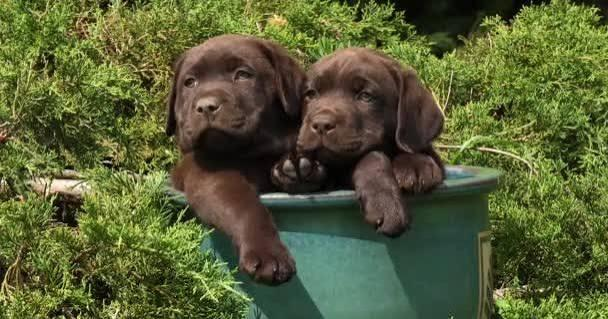puppy-dog: (163, 32, 308, 289), (268, 42, 449, 239)
